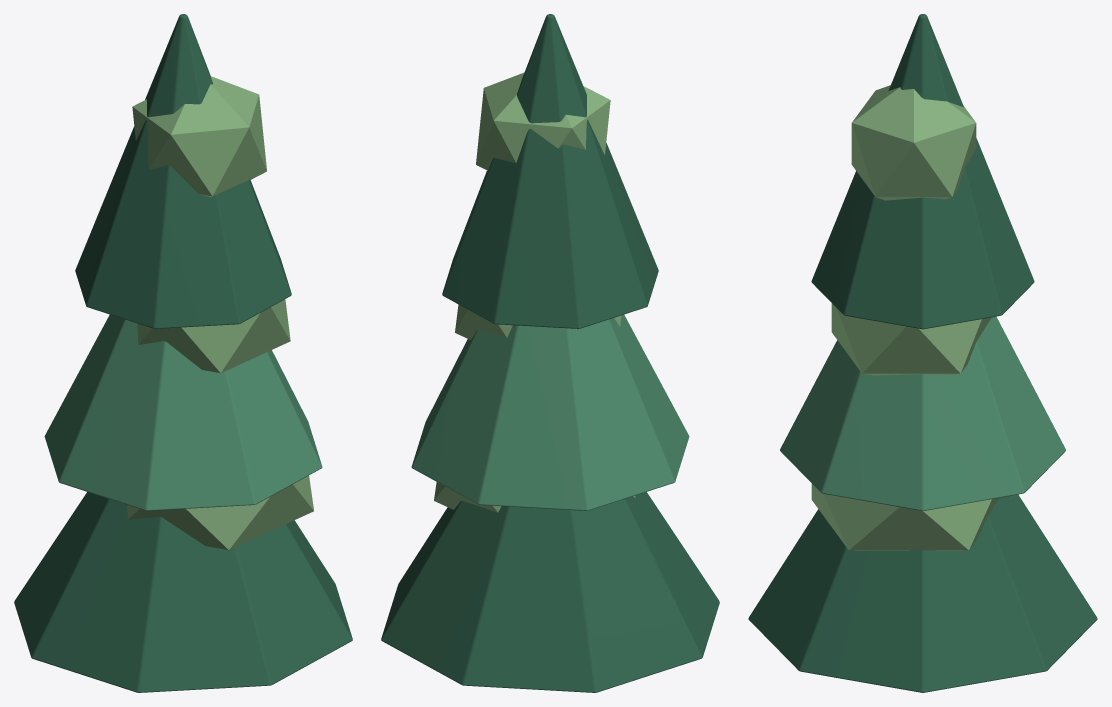
The model's file is SM_Tree_Pine_Tall.fbx.
The picture shows the model from 3 angles, left to right: view 1: azimuth 30°, elevation 25°; view 2: azimuth 150°, elevation 25°; view 3: azimuth 270°, elevation 25°; orthographic projection.
Parts seen in each view (by area): view 1: SM_Tree_Pine_Tall; view 2: SM_Tree_Pine_Tall; view 3: SM_Tree_Pine_Tall.
Part boxes in pixels (x1=…): SM_Tree_Pine_Tall: x1=14, y1=14, x2=352, y2=692; SM_Tree_Pine_Tall: x1=381, y1=14, x2=719, y2=692; SM_Tree_Pine_Tall: x1=748, y1=14, x2=1097, y2=692.
Size of the model in its own units: 2.09 by 4.31 by 2.09.
